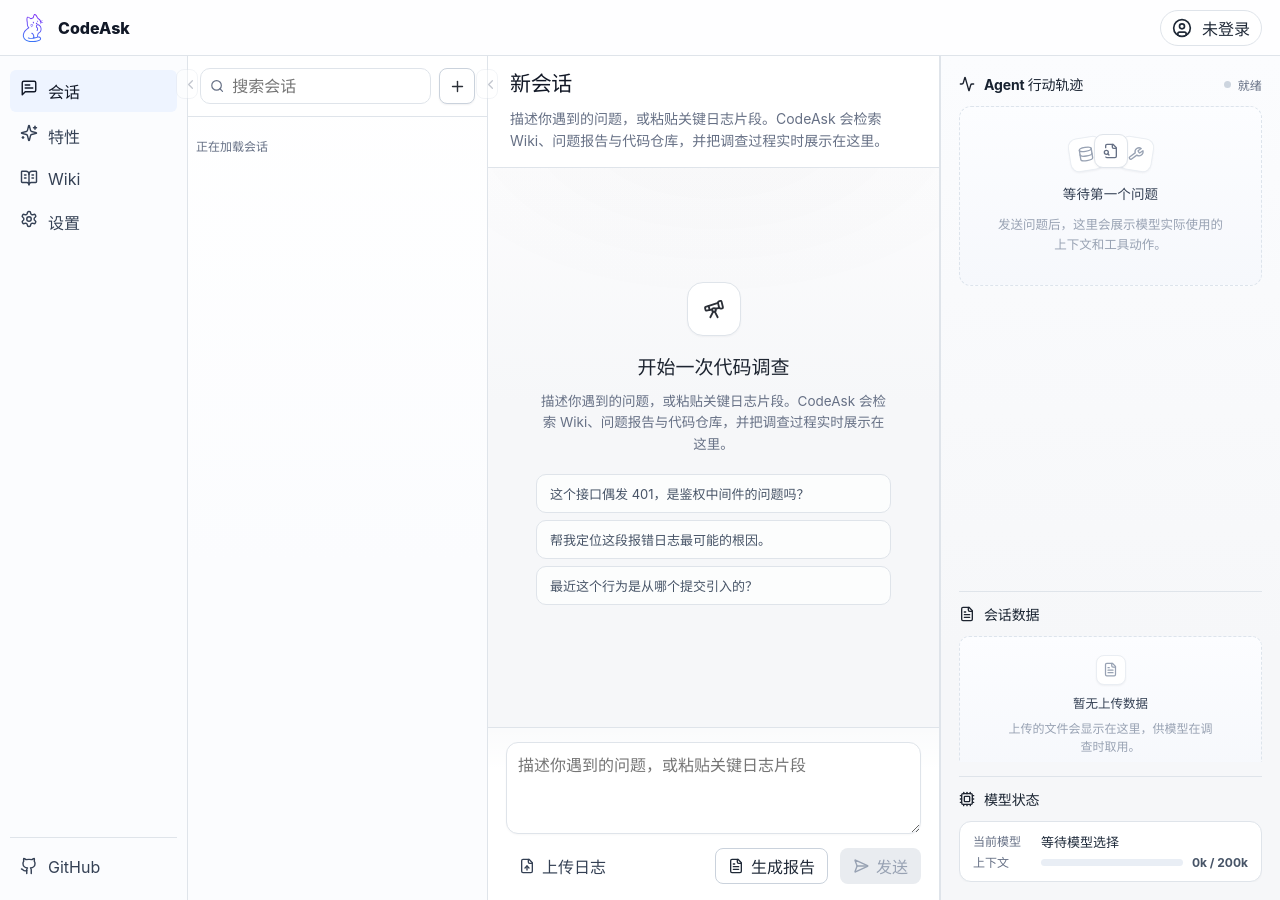
Scenario: FeatureWorkbench management actions › shows a visible error when loading features fails instead of pretending the list is empty
Click the button "特性" at (94, 136), box [10,115,177,157]
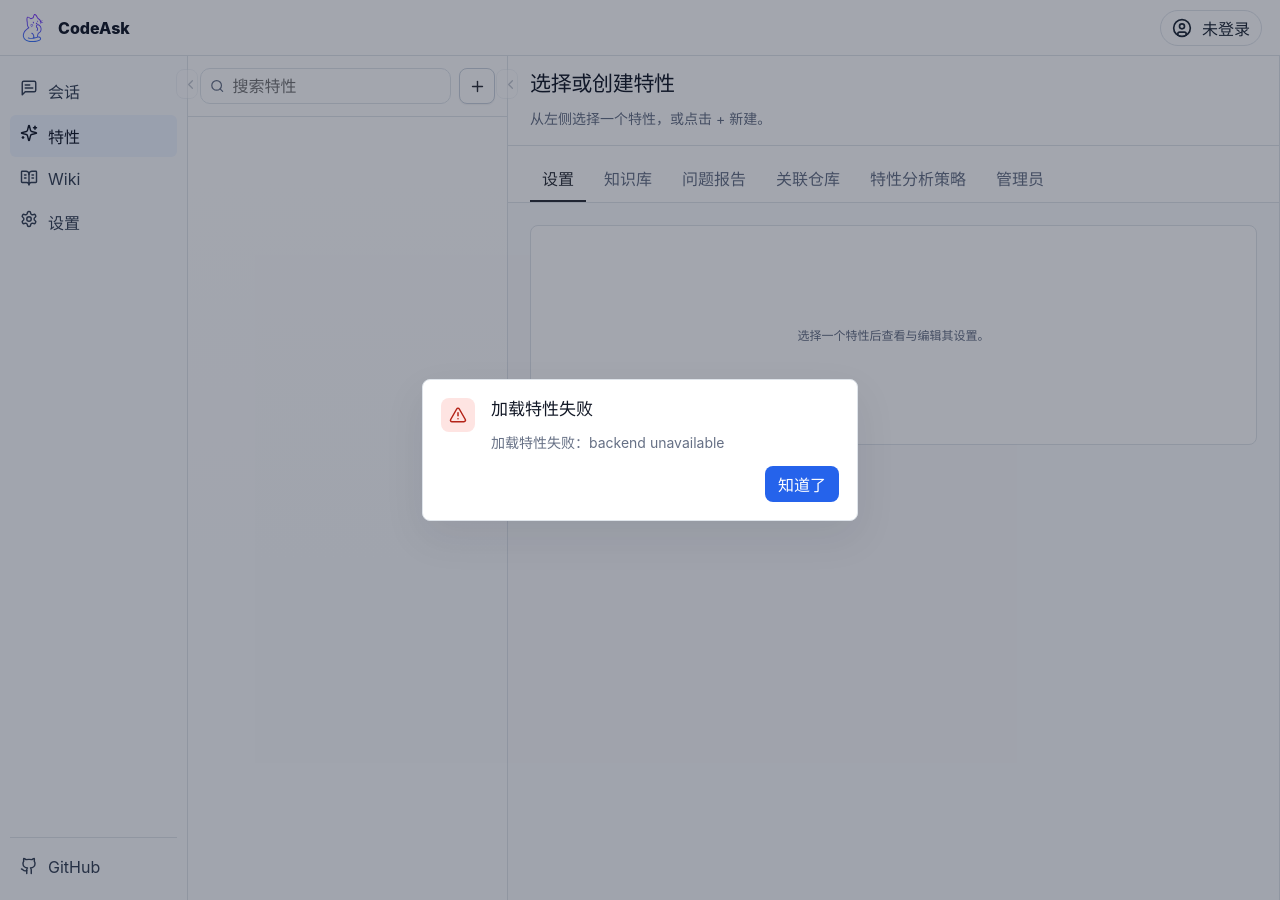
Check: the dialog shows "加载特性失败：backend unavailable", box [491,434,724,451]
